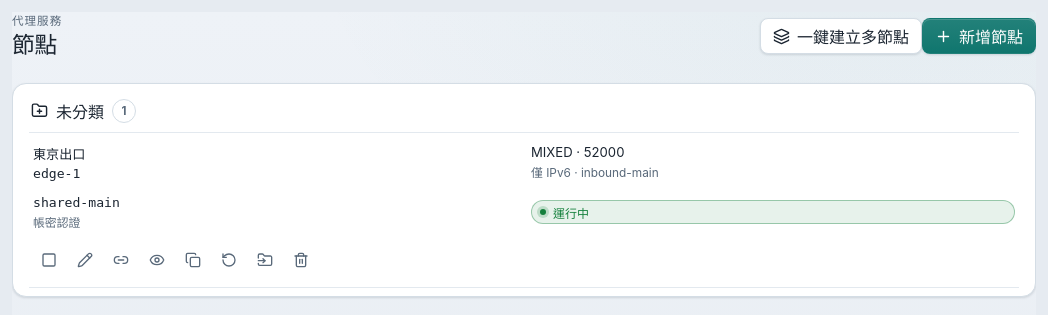
Test: NodesView › copies standard connection URIs and reports success beside the node actions
Click the button named "複製 edge-1 連線資訊".
click(121, 260)  # box [105, 244, 137, 276]
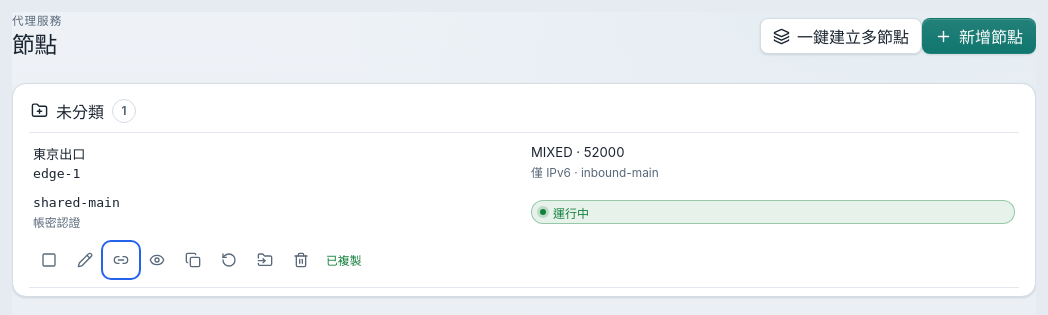
Result: the message reads "已複製" at [326, 254, 362, 268]
